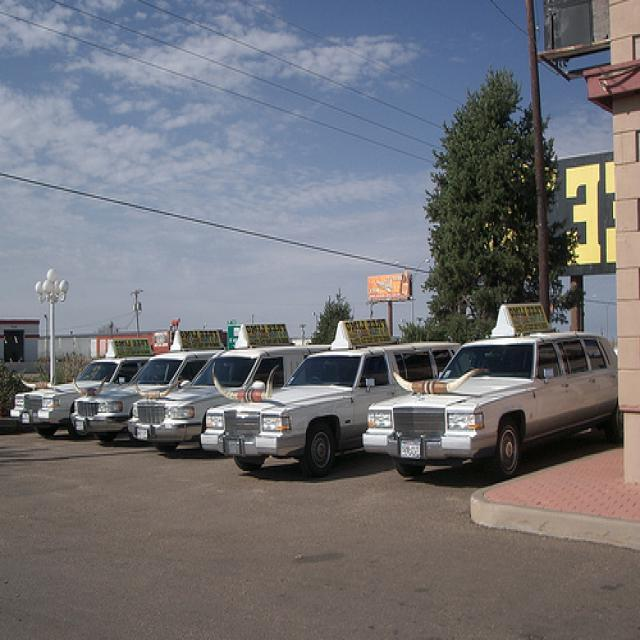Car: (349, 318, 636, 494), (184, 325, 478, 495), (116, 325, 378, 461), (58, 333, 286, 455), (1, 330, 216, 453)
